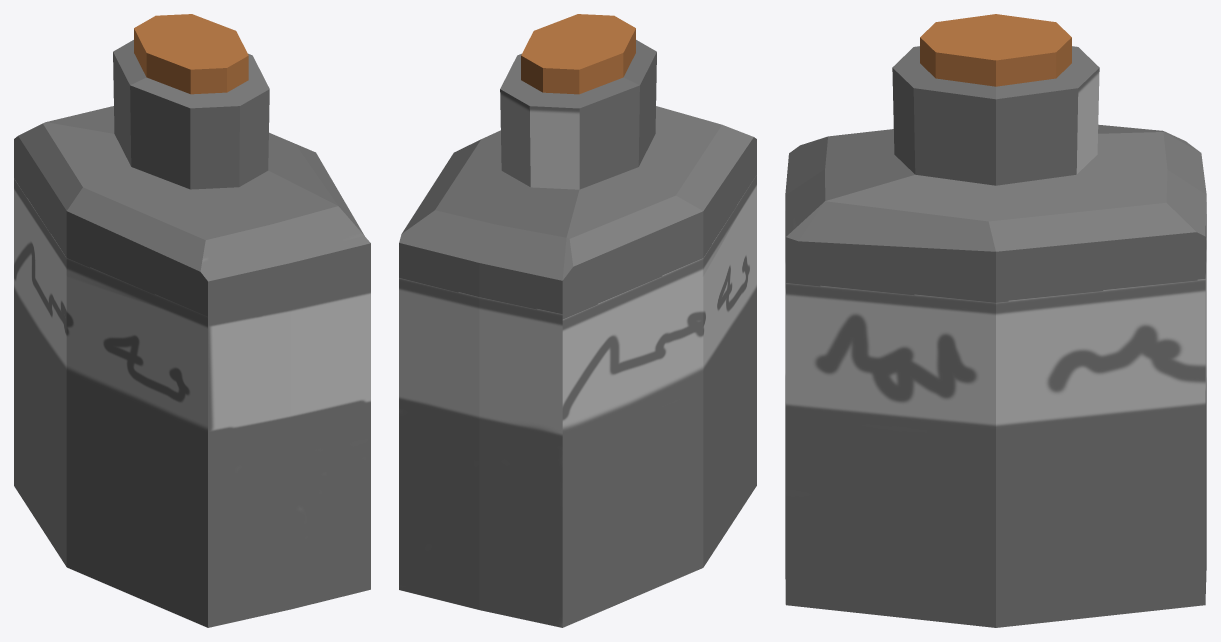
Rendered from PillBottle.glb.
The picture shows the model from 3 angles, left to right: view 1: azimuth 30°, elevation 25°; view 2: azimuth 150°, elevation 25°; view 3: azimuth 270°, elevation 25°; orthographic projection. The views are drawn at different scales.
Parts seen in each view (by area): view 1: Pills; view 2: Pills; view 3: Pills.
Part boxes in pixels (x1,y1,x2,y2): Pills: (14, 14, 370, 627); Pills: (399, 14, 756, 627); Pills: (785, 14, 1206, 627).
Size of the model in its own units: 0.3539 by 0.6718 by 0.4877.
2 materials, 1 textured.
